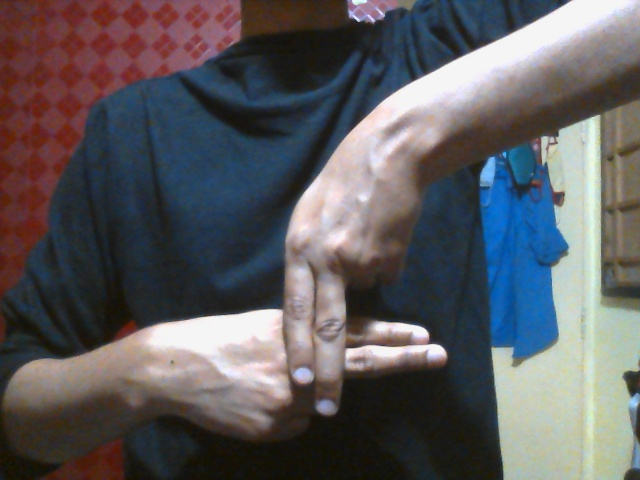F: (168, 147, 450, 444)
